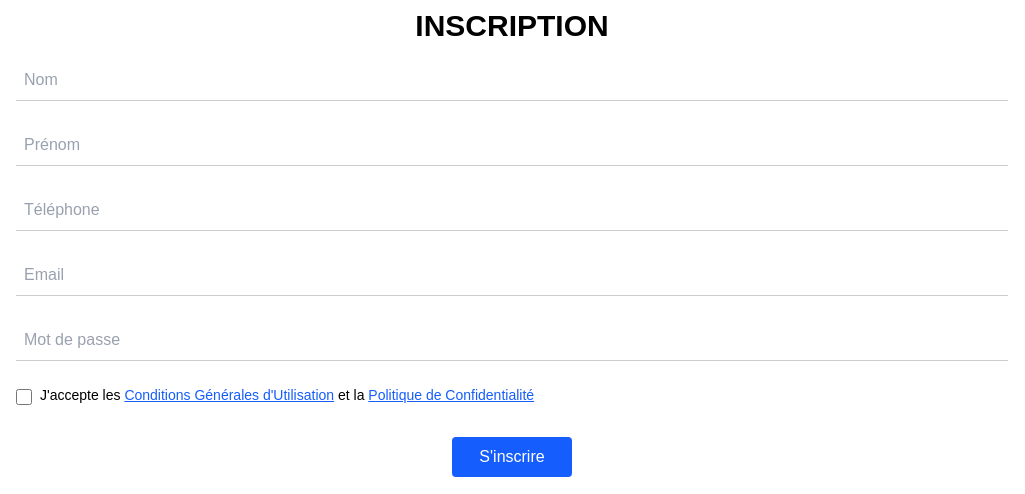
Test: RegisterClientForm › affiche une erreur si registerClient échoue
Type "test@example.com" into the field with placeholder "Email" at (512, 276), box [16,255,1008,296]
Type "@Password12345" into the password field with placeholder "Mot de passe" at (512, 340), box [16,320,1008,361]
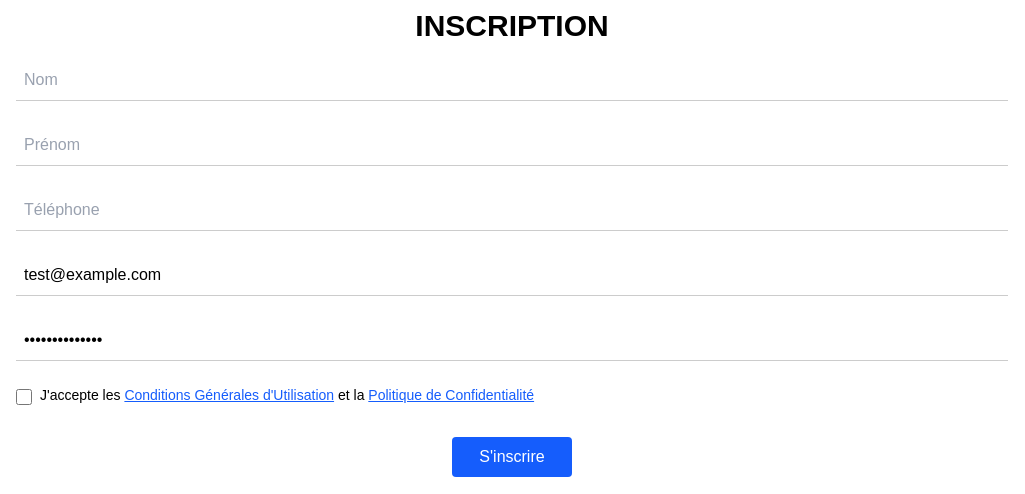
Type "Doe" into the field with placeholder "Nom" at (512, 80), box [16,60,1008,101]
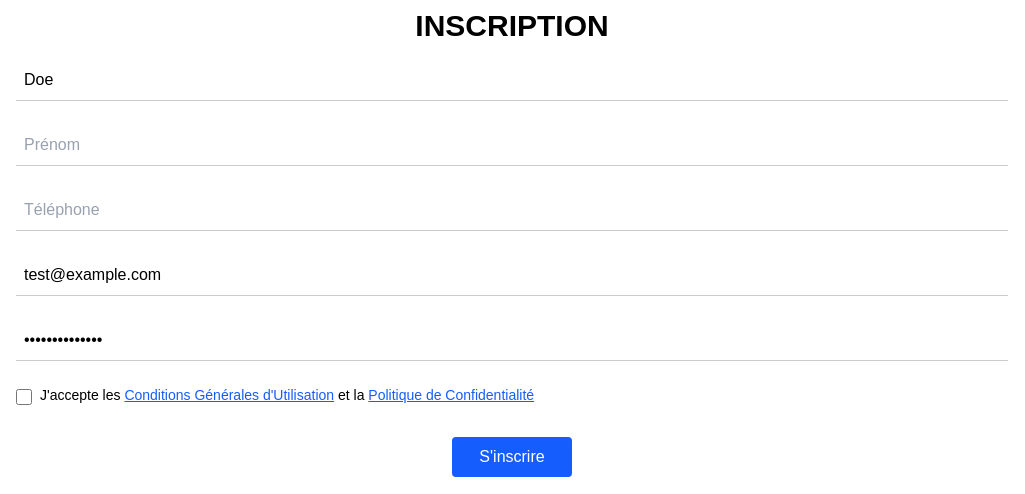
Type "John" into the field with placeholder "Prénom" at (512, 146), box [16,125,1008,166]
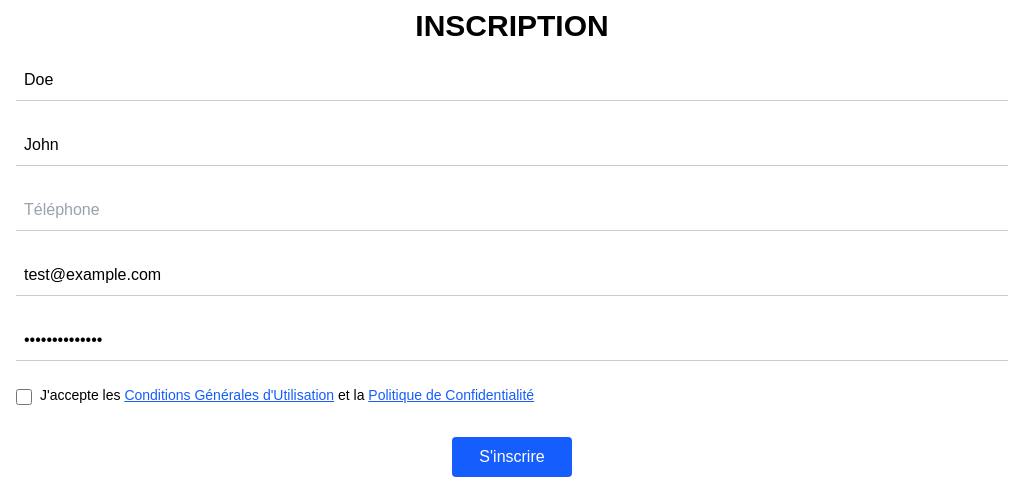
Type "0123456789" into the field with placeholder "Téléphone" at (512, 210), box [16,190,1008,231]
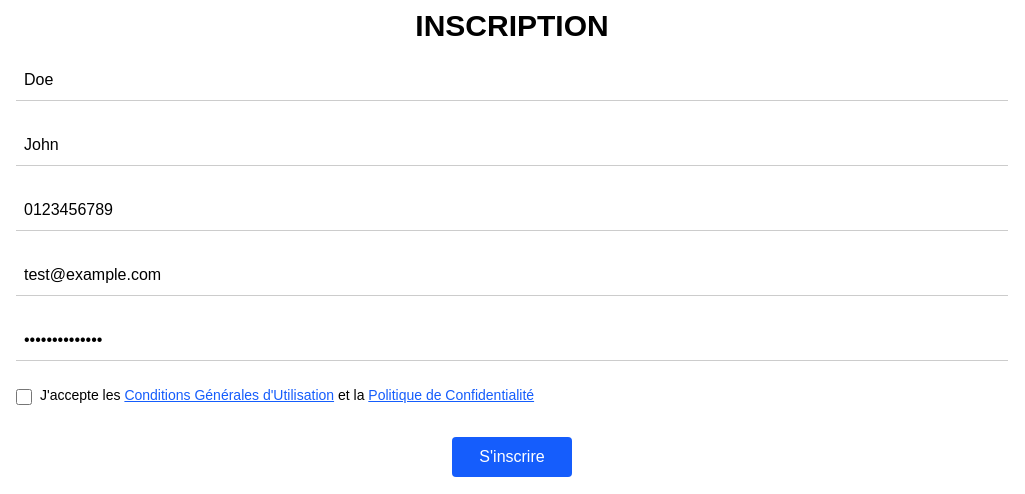
Click the checkbox at (24, 397), box [16,389,32,405]
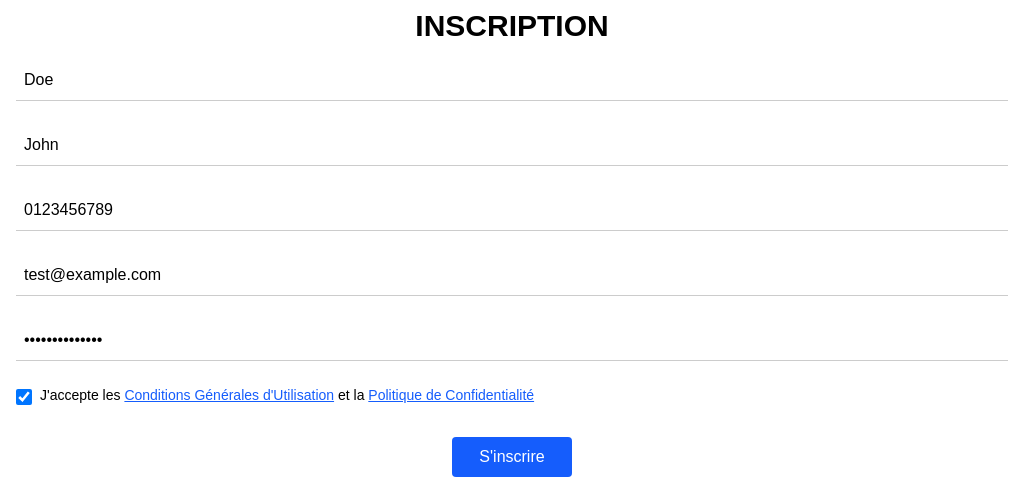
Click the button "S'inscrire" at (512, 457), box [452,437,572,477]
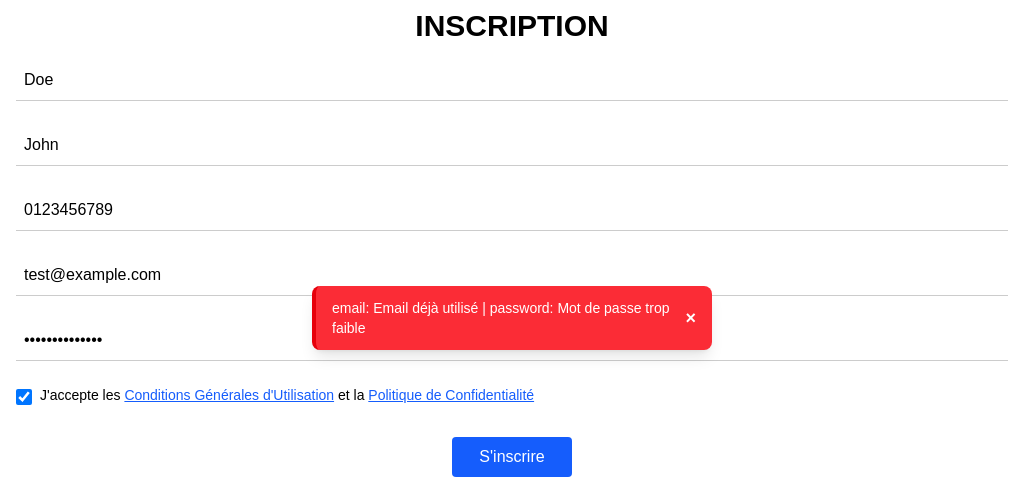
Check: the text "password: Mot de passe trop faible" is shown, box [332,300,670,336]
